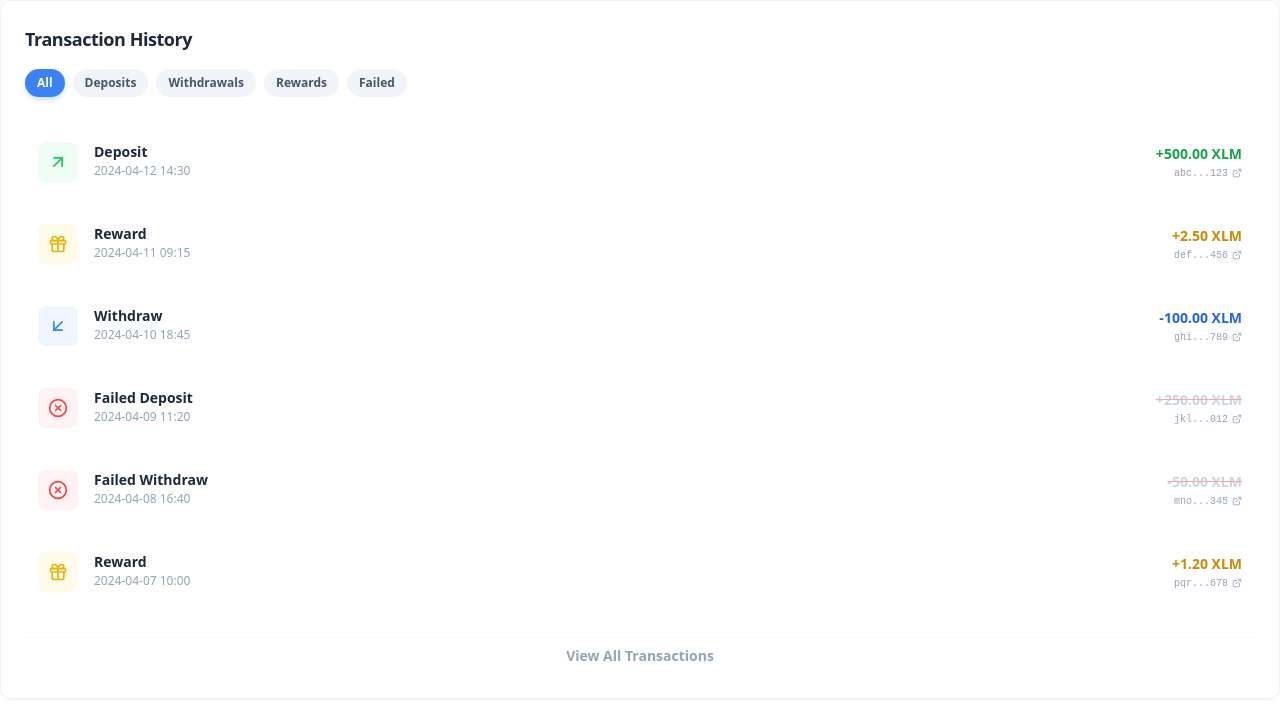
Test: TransactionHistory › shows empty state when no transactions match filter
The image size is (1280, 720).
Click the button "Rewards".
click(302, 83)  # box [264,69,339,97]
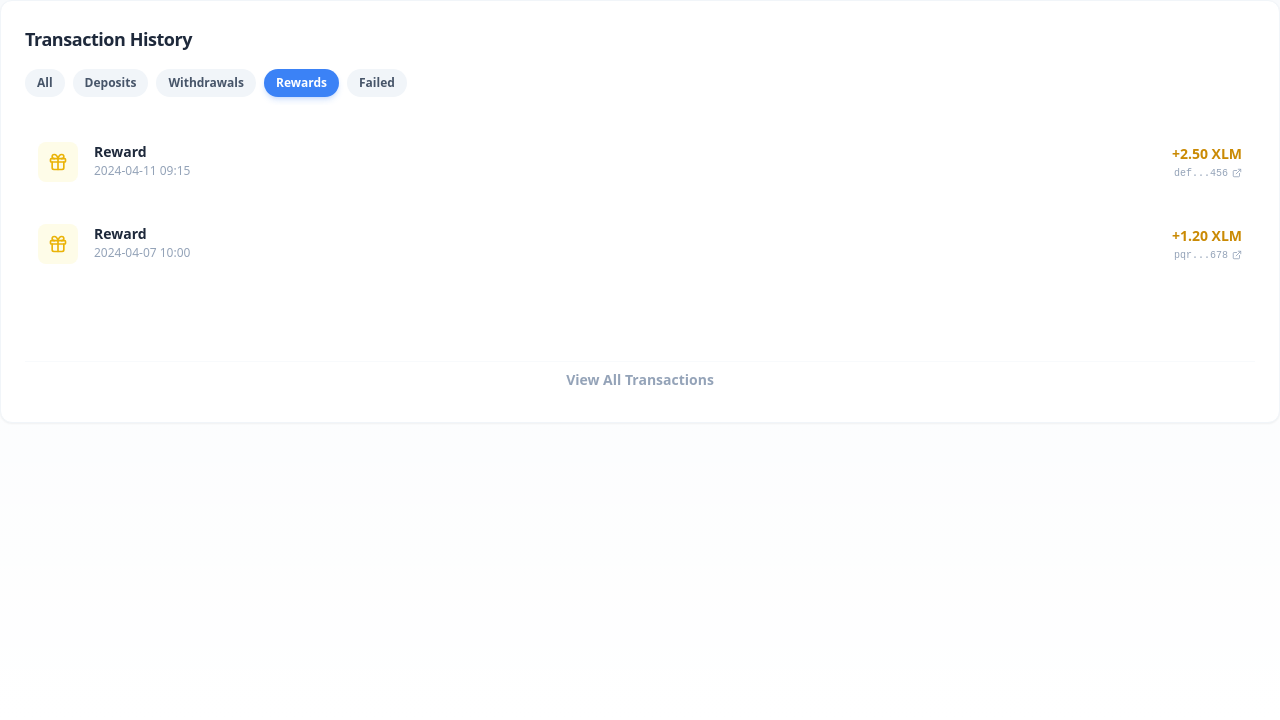
expect the number of links is 2: met, box [1172,166,1242,180]; [1172,248,1242,262]
